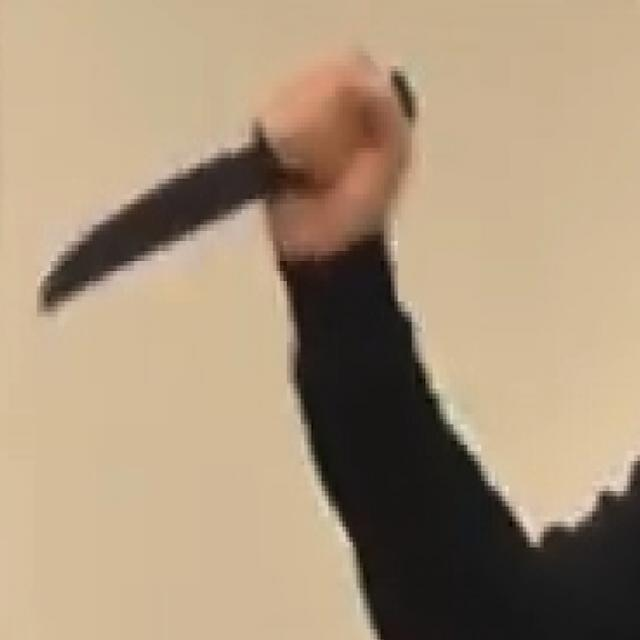suspicion: (26, 28, 634, 636), (31, 110, 290, 323)
